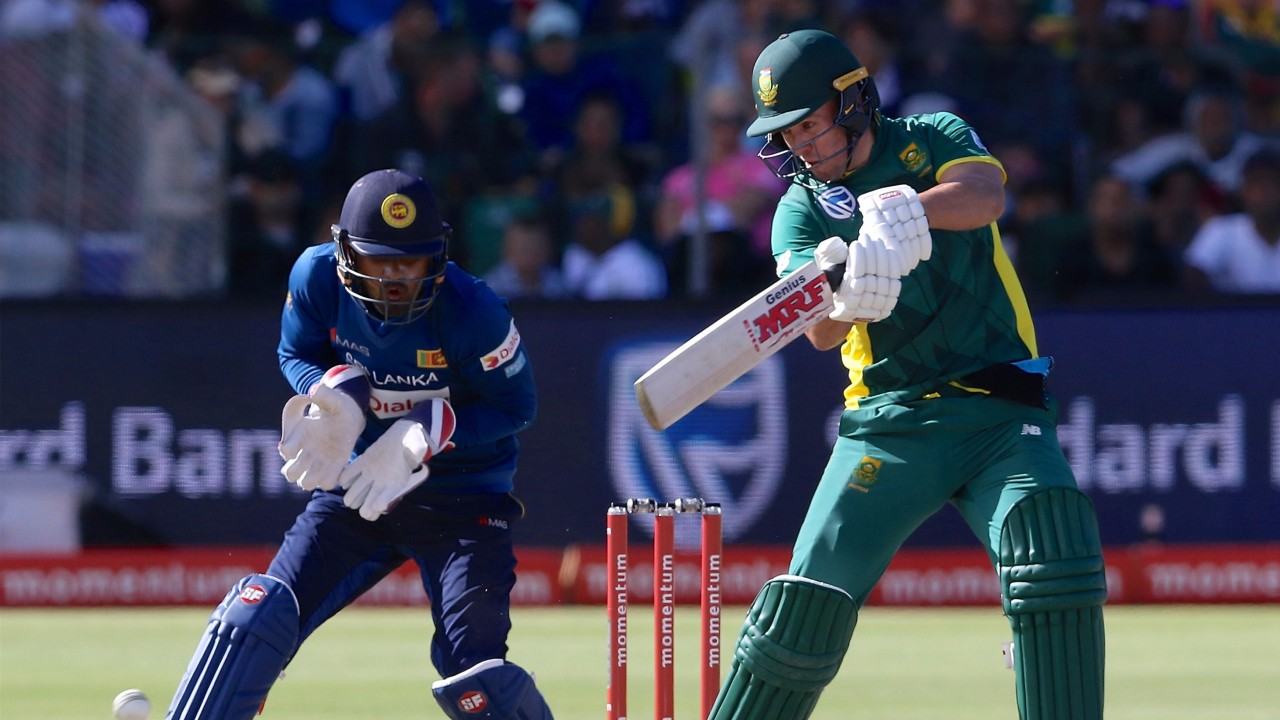Cutshot: (583, 0, 1154, 717)
